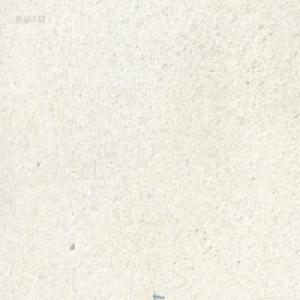Nail: (151, 289, 163, 297)
